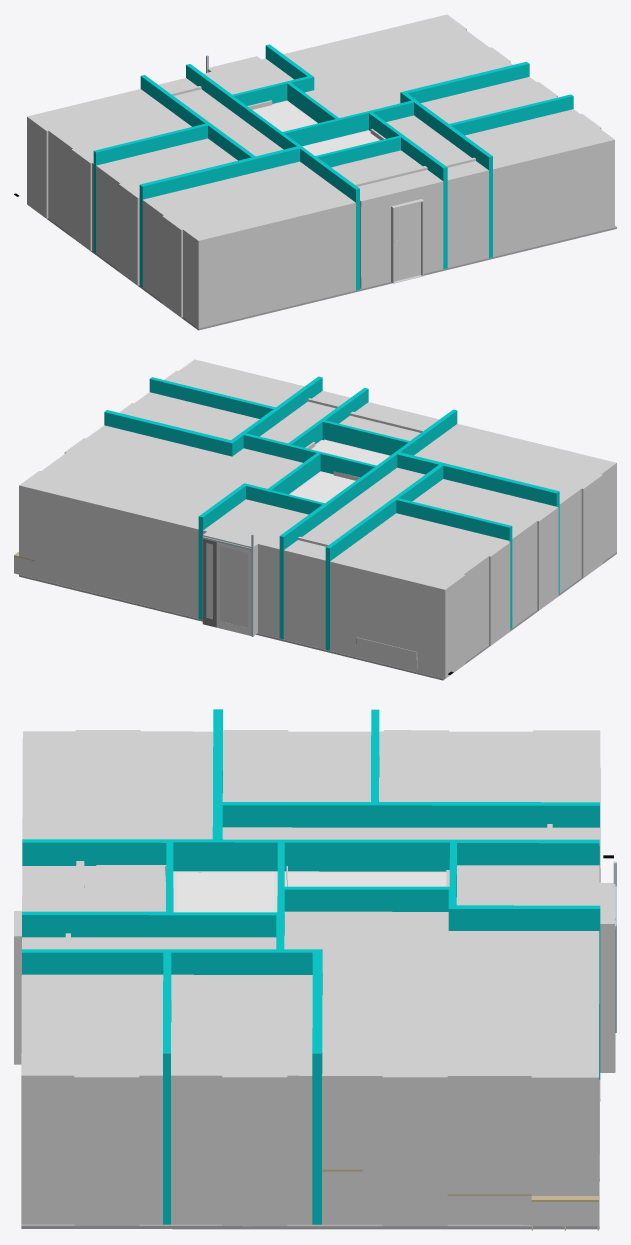
3 views of the same model, one above another, from view 1: azimuth 30°, elevation 25°; view 2: azimuth 150°, elevation 25°; view 3: azimuth 270°, elevation 25° (orthographic). The views are drawn at different scales.
Parts seen in each view (by area): view 1: IfcSpace/105, IfcSpace/108, IfcSpace/110, IfcSpace/103, IfcWallStandardCase/Basic Wall:VT01_ Innervägg 120 mm:157250 (×9), IfcSpace/106, IfcSpace/104, IfcSpace/107, IfcWallStandardCase/Basic Wall:VT03_ Innervägg schakt 105 .0 (×4), IfcSpace/109, IfcWallStandardCase/Basic Wall:VT02_Rumsskiljande vägg 145, IfcSpace/102 (+9 smaller); view 2: IfcSpace/110, IfcSpace/103, IfcSpace/105, IfcWallStandardCase/Basic Wall:VT01_ Innervägg 120 mm:157250 (×9), IfcSpace/101, IfcSpace/104, IfcSpace/102, IfcWallStandardCase/Basic Wall:VT03_ Innervägg schakt 105 .0 (×4), IfcSpace/108, IfcSpace/109, IfcWallStandardCase/Basic Wall:VT02_Rumsskiljande vägg 145, IfcWallStandardCase/Basic Wall:VT02_Rumsskiljande vägg 145 m (+10 smaller); view 3: IfcSpace/110, IfcSpace/108, IfcSpace/109, IfcWallStandardCase/Basic Wall:VT01_ Innervägg 120 mm:157250 (×8), IfcSpace/105, IfcWallStandardCase/Basic Wall:VT03_ Innervägg schakt 105 .0 (×3), IfcSpace/103, IfcSpace/104, IfcSpace/101, IfcSpace/106, IfcCovering/Compound Ceiling:UT02 Badrum KTH Live in Lab:156 (×2), IfcSpace/102 (+7 smaller).
Part boxes in pixels (box(x1,y1,x2,y2)): IfcSpace/105: box(142, 161, 355, 328); IfcSpace/108: box(465, 109, 614, 256); IfcSpace/110: box(283, 14, 512, 117); IfcSpace/103: box(27, 89, 191, 251); IfcWallStandardCase/Basic Wall:VT01_ Innervägg 120 mm:157250 (×9): box(93, 44, 573, 290); IfcSpace/106: box(331, 150, 443, 288); IfcSpace/104: box(96, 138, 237, 285); IfcSpace/107: box(386, 115, 488, 267); IfcWallStandardCase/Basic Wall:VT03_ Innervägg schakt 105 .0 (×4): box(230, 82, 404, 171); IfcSpace/109: box(421, 77, 557, 123); IfcWallStandardCase/Basic Wall:VT02_Rumsskiljande vägg 145: box(139, 146, 299, 287); IfcSpace/102: box(158, 78, 283, 156); IfcSpace/110: box(19, 425, 302, 618); IfcSpace/103: box(330, 513, 510, 678); IfcSpace/105: box(414, 424, 616, 593); IfcWallStandardCase/Basic Wall:VT01_ Innervägg 120 mm:157250 (×9): box(149, 376, 512, 650); IfcSpace/101: box(202, 499, 308, 638); IfcSpace/104: box(412, 479, 558, 627); IfcSpace/102: box(283, 467, 424, 649); IfcWallStandardCase/Basic Wall:VT03_ Innervägg schakt 105 .0 (×4): box(267, 419, 413, 516); IfcSpace/108: box(164, 359, 304, 407); IfcSpace/109: box(119, 392, 259, 439); IfcWallStandardCase/Basic Wall:VT02_Rumsskiljande vägg 145: box(397, 452, 559, 593); IfcWallStandardCase/Basic Wall:VT02_Rumsskiljande vägg 145 m: box(104, 410, 234, 456); IfcSpace/110: box(284, 911, 599, 1226); IfcSpace/108: box(21, 974, 163, 1225); IfcSpace/109: box(171, 974, 312, 1226); IfcWallStandardCase/Basic Wall:VT01_ Innervägg 120 mm:157250 (×8): box(22, 709, 600, 1224); IfcSpace/105: box(22, 730, 213, 880); IfcWallStandardCase/Basic Wall:VT03_ Innervägg schakt 105 .0 (×3): box(166, 839, 449, 937); IfcSpace/103: box(379, 730, 600, 882); IfcSpace/104: box(222, 730, 371, 801); IfcSpace/101: box(456, 865, 615, 1072); IfcSpace/106: box(22, 866, 165, 911); IfcCovering/Compound Ceiling:UT02 Badrum KTH Live in Lab:156 (×2): box(176, 872, 446, 912); IfcSpace/102: box(222, 827, 599, 882).
Bounding box in the file's own units: 1260 × 285 × 895.
